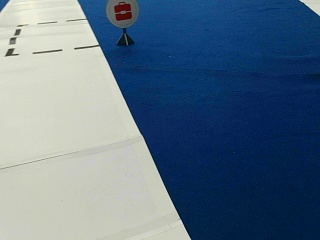company: (106, 0, 138, 27)
